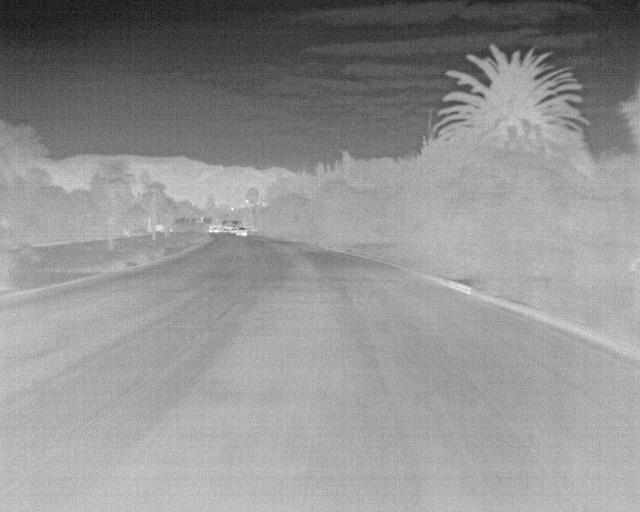car: (205, 220, 226, 233), (233, 224, 247, 238)
